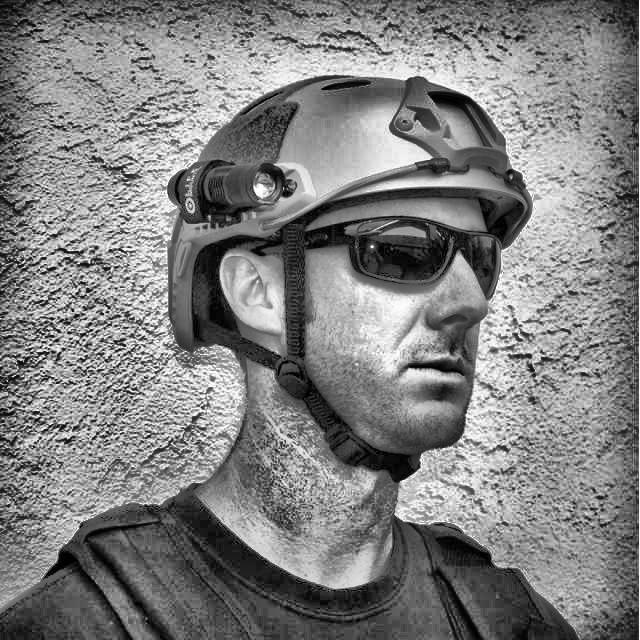Helmet: (157, 66, 538, 494)
